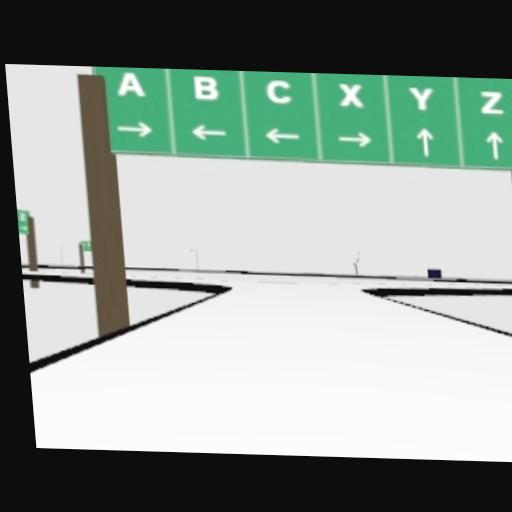A: (114, 71, 145, 97)
B: (191, 75, 220, 101)
C: (264, 78, 293, 106)
Left: (262, 127, 301, 145), (190, 123, 228, 141)
Right: (336, 130, 371, 148), (117, 121, 153, 137)
Straight: (416, 126, 435, 155), (485, 130, 504, 159)
X: (337, 82, 364, 106)
Y: (408, 86, 434, 110)
Z: (479, 90, 504, 113)
